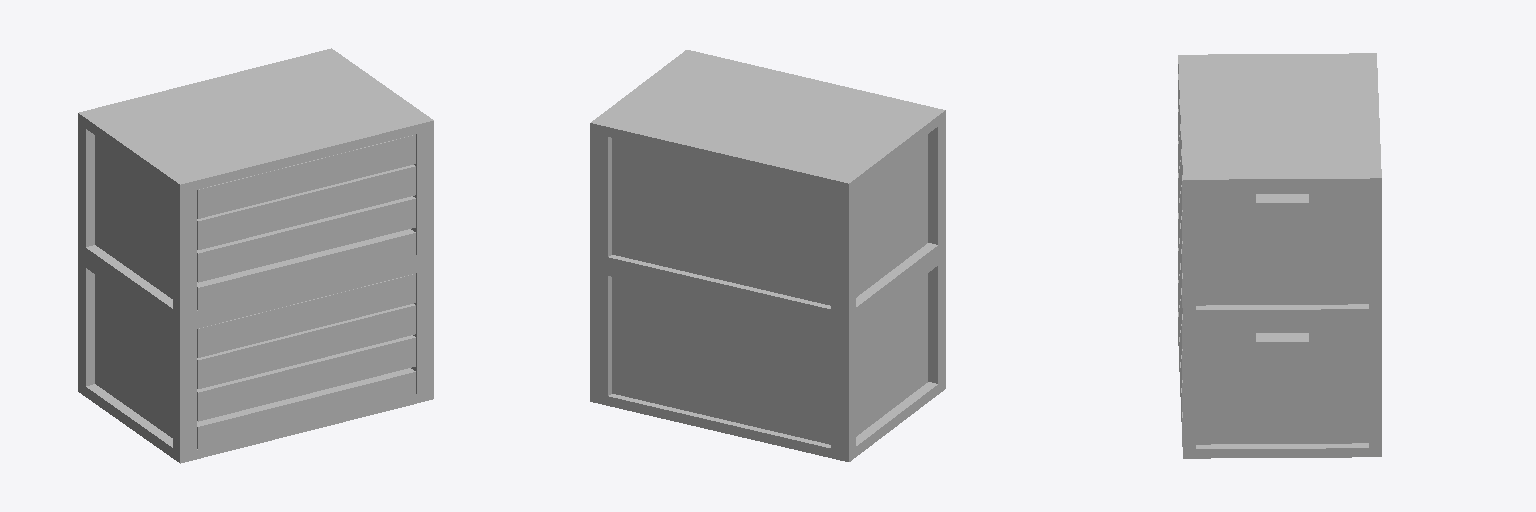
File: 2crates.obj
The picture shows the model from 3 angles: view 1: azimuth 30°, elevation 25°; view 2: azimuth 150°, elevation 25°; view 3: azimuth 270°, elevation 25°; orthographic projection.
Visible parts, largest first — view 1: Cube.002, Cube.001; view 2: Cube.002, Cube.001; view 3: Cube.002, Cube.001.
Boxes of the visible parts, <box> form: Cube.002: <box>78,48,433,323</box>; Cube.001: <box>78,252,433,463</box>; Cube.002: <box>590,50,945,322</box>; Cube.001: <box>590,249,945,461</box>; Cube.002: <box>1178,53,1381,319</box>; Cube.001: <box>1178,207,1381,458</box>.
Bounding box in the file's own units: 3.23 × 3.32 × 2.2.